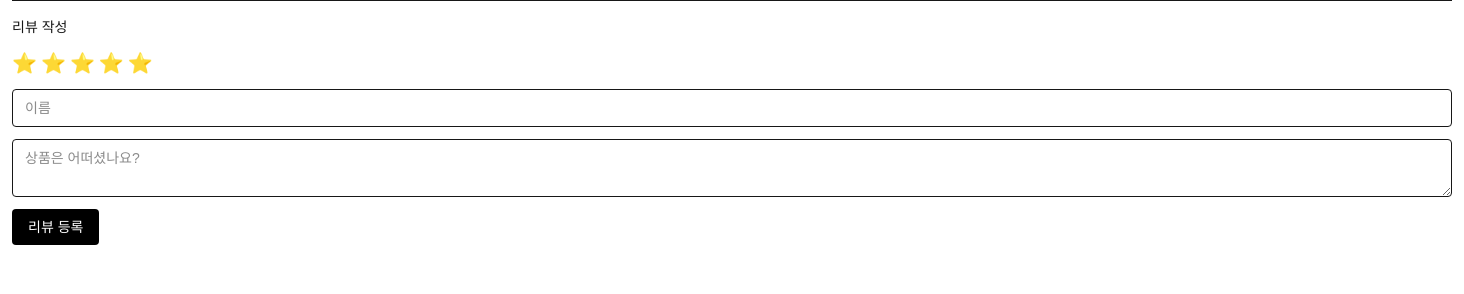
Scenario: ReviewForm › 실패: 네트워크 오류면 안내 메시지를 보여준다
This screenshot has width=1464, height=294.
Expected: the field labelled "이름" is shown, [12,89,1452,127]
Click the radio button named "4점". click: click(111, 63)
box: [99,49,124,77]
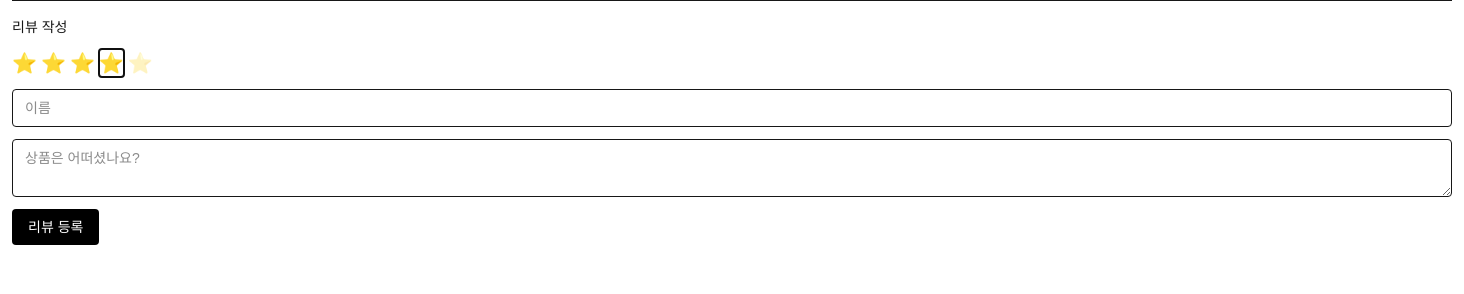
Type "리뷰어" into the field labelled "이름". click: (732, 108)
box: [12,89,1452,127]
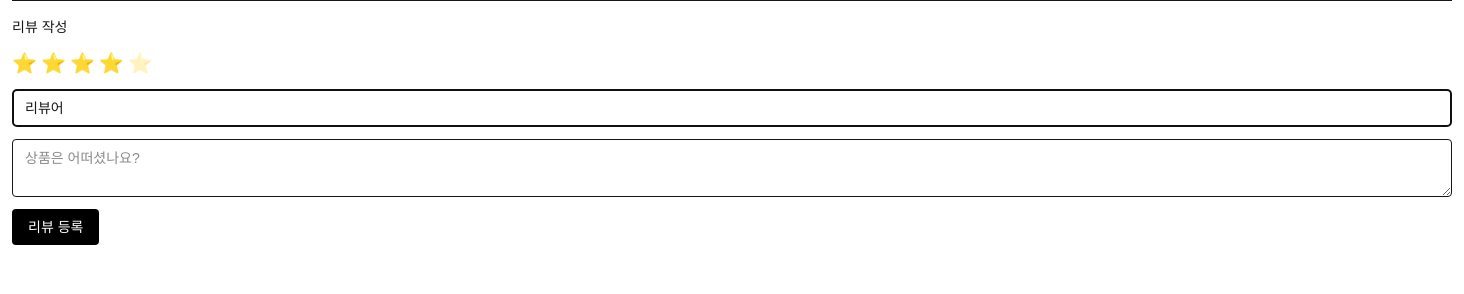
Type "좋아요" into the text box named "리뷰 내용". click: (732, 168)
box: [12,139,1452,197]
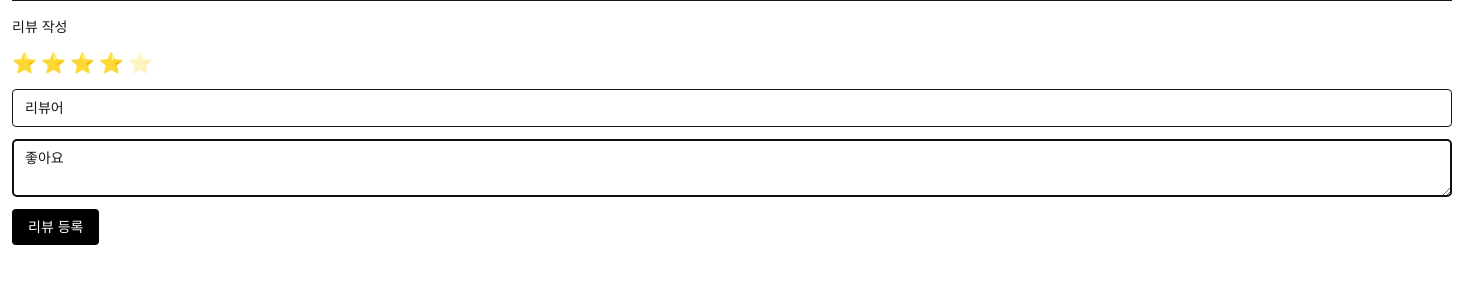
Click the button "리뷰 등록". click: click(56, 227)
box: [12,209,99,245]
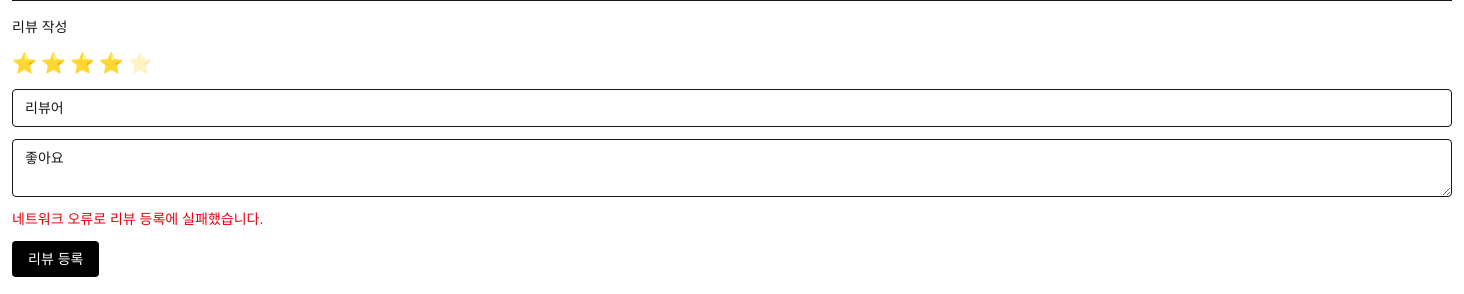
Expected: the message shows "네트워크 오류", [12,211,263,227]
